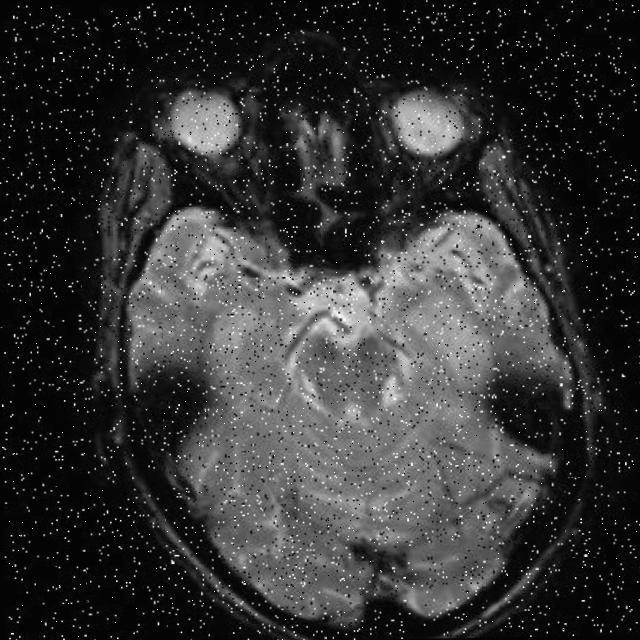CN: (116, 320, 232, 464)
LMCI: (457, 342, 583, 462)
